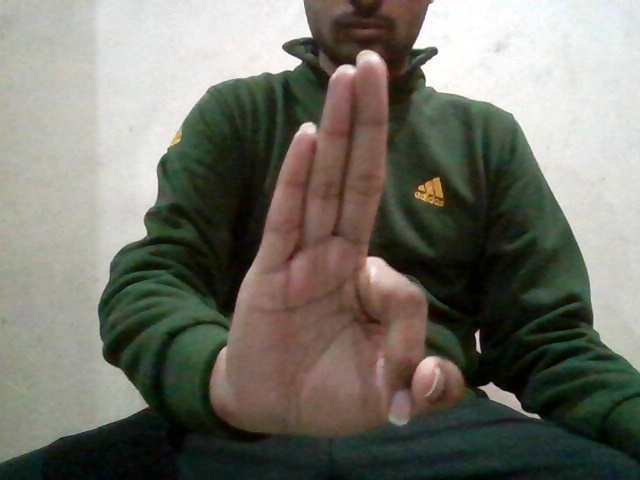F: (222, 49, 476, 442)
